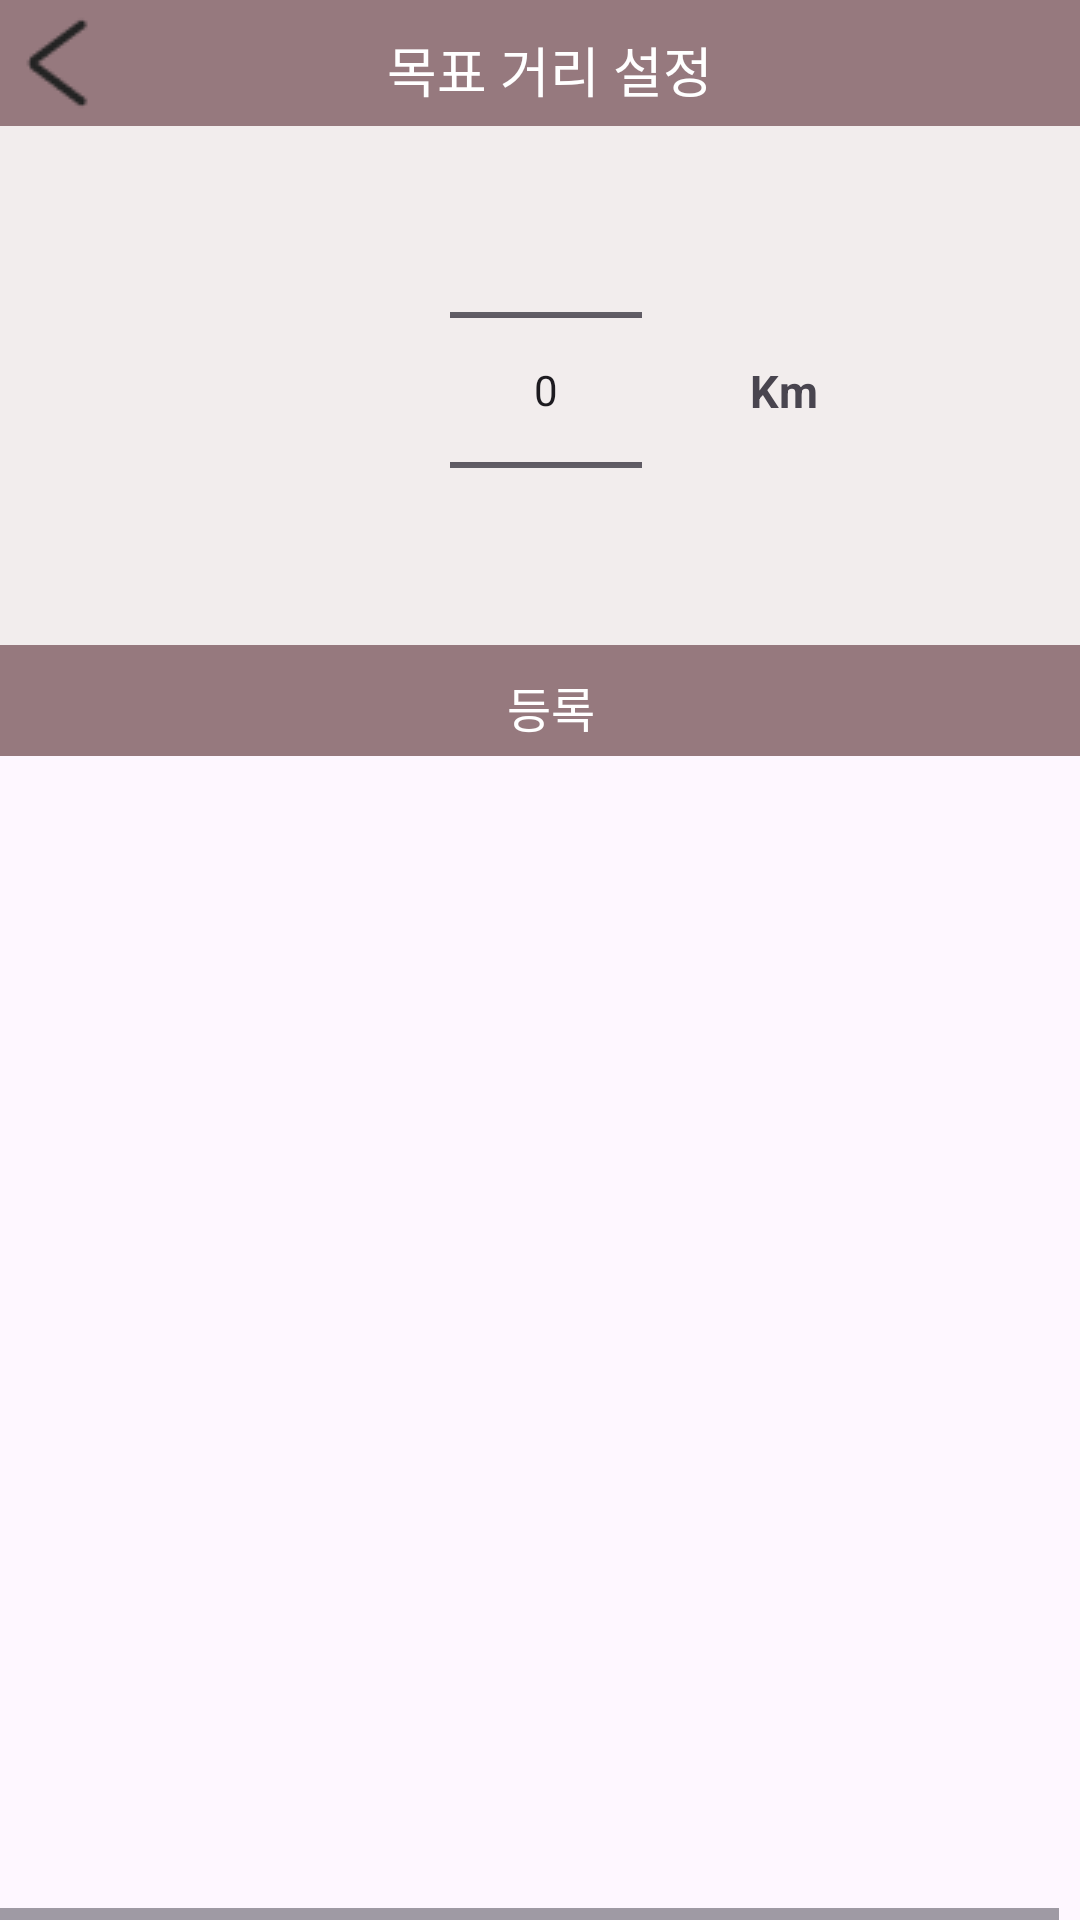

Named icons in this screenshot (1080px x 1920px) and their centers, [x,y]:
back imagebutton: [57,63]
